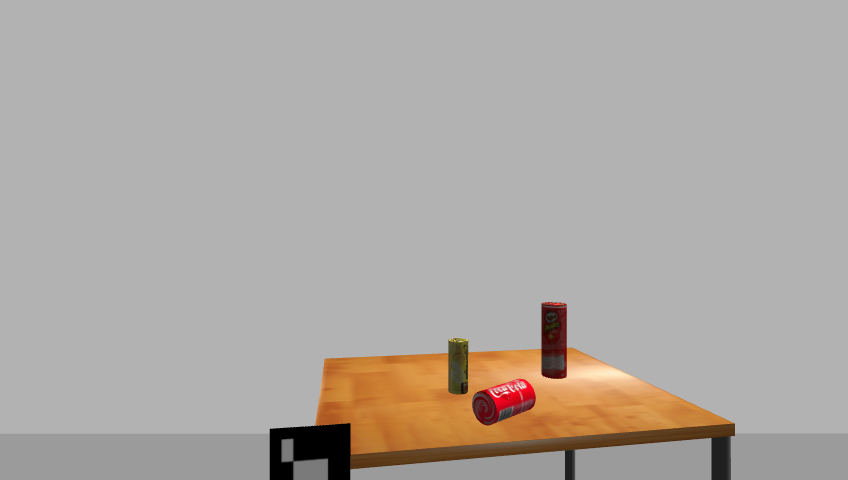aruco marker: (264, 422, 357, 480)
biscuits pack: (447, 338, 470, 396)
coke can: (469, 379, 538, 426)
dinner table: (302, 344, 745, 479)
pringles can: (539, 301, 570, 380)
